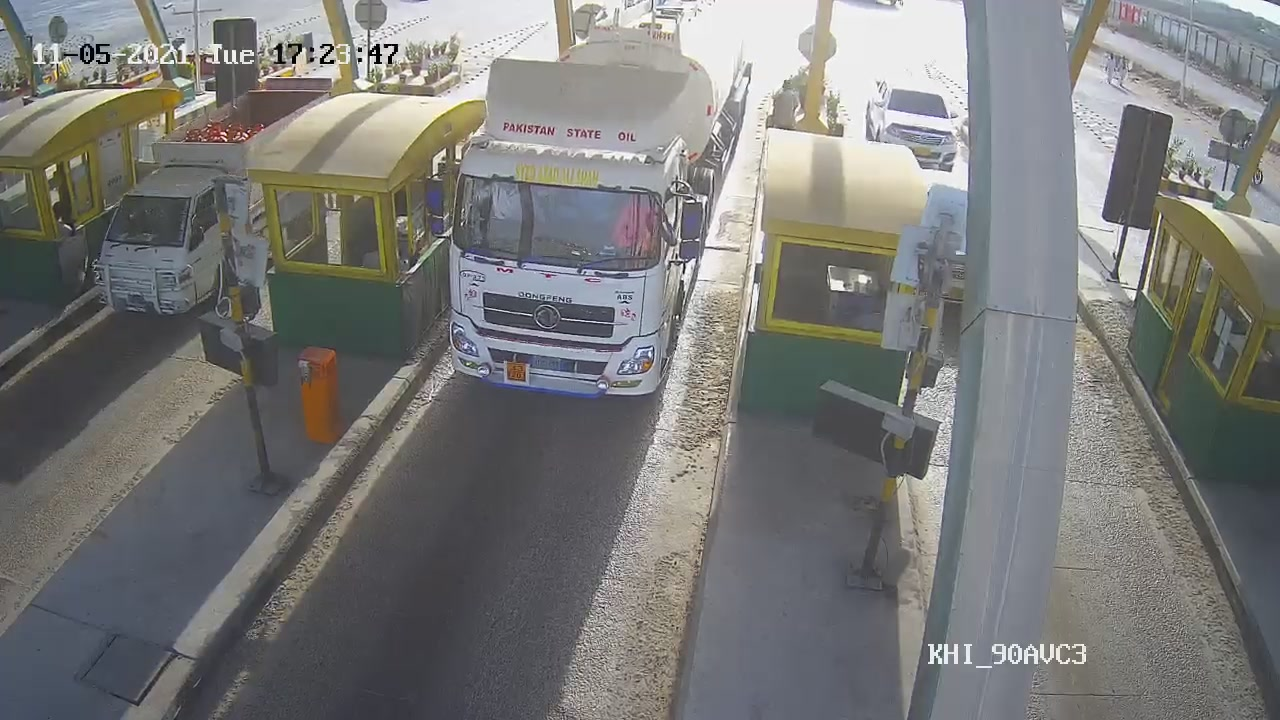F6: (428, 1, 753, 403)
